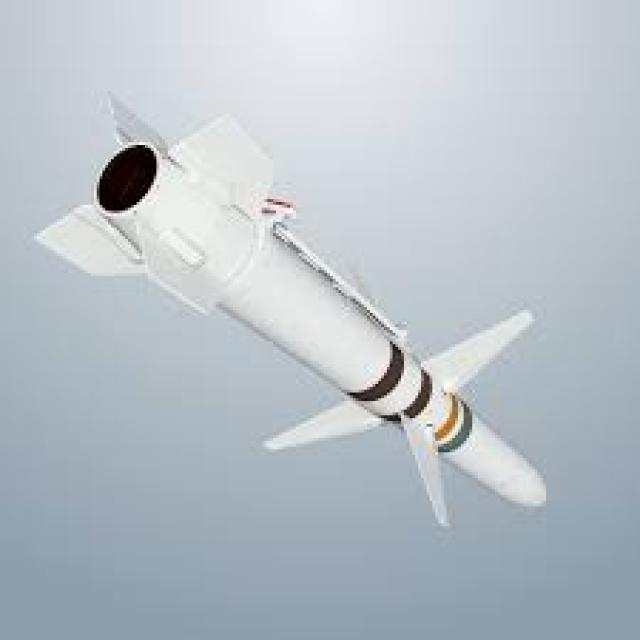missile: (35, 93, 552, 518)
